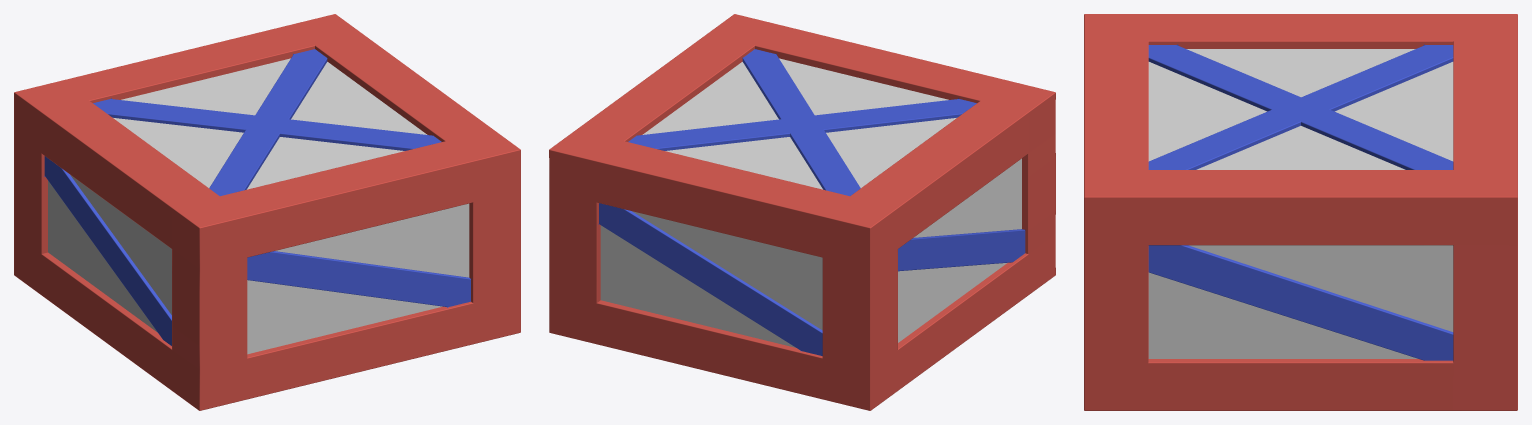
File: Prop_MoveBox_Fabi_M.fbx
The picture shows the model from 3 angles, left to right: view 1: azimuth 30°, elevation 25°; view 2: azimuth 150°, elevation 25°; view 3: azimuth 270°, elevation 25°; orthographic projection. The views are drawn at different scales.
Parts seen in each view (by area): view 1: Box_Frame, Box_Inside; view 2: Box_Frame, Box_Inside; view 3: Box_Frame, Box_Inside.
Boxes of the visible parts, bbox=[...] form: Box_Frame: bbox=[14, 14, 520, 410]; Box_Inside: bbox=[48, 58, 469, 354]; Box_Frame: bbox=[549, 14, 1055, 410]; Box_Inside: bbox=[600, 58, 1021, 347]; Box_Frame: bbox=[1084, 14, 1517, 410]; Box_Inside: bbox=[1148, 49, 1453, 358].
Size of the model in its own units: 24.8 by 13.51 by 24.8.
